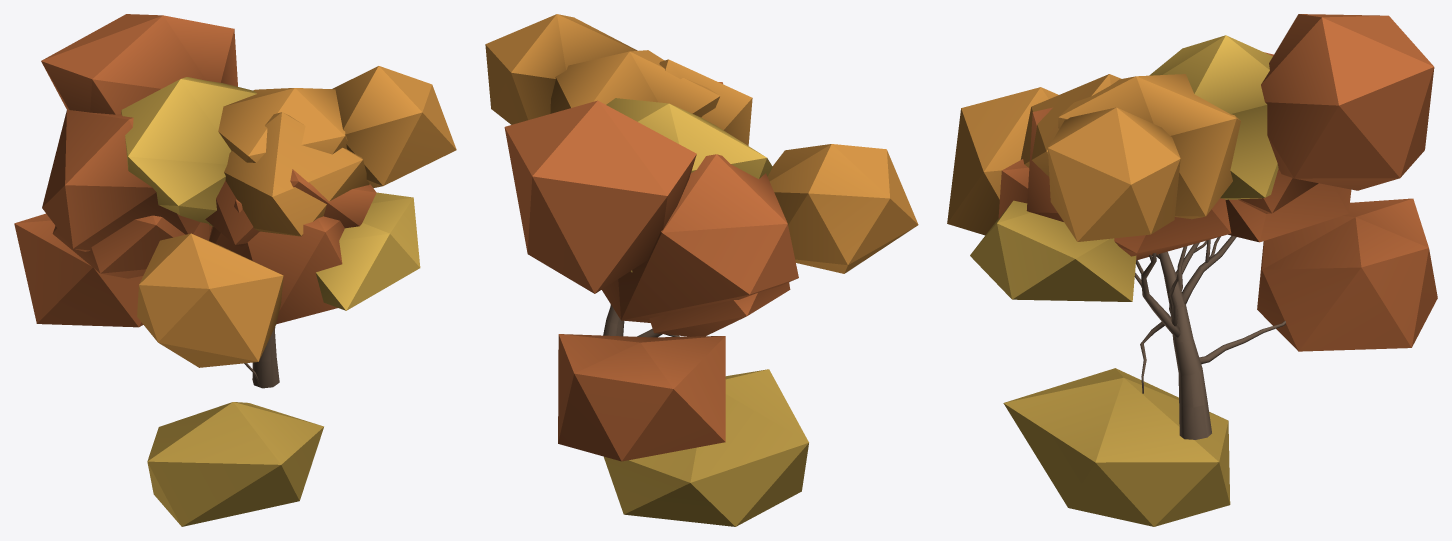
The model's file is obj_deco_matorral_2.glb.
3 renders of one model, left to right at view 1: azimuth 30°, elevation 25°; view 2: azimuth 150°, elevation 25°; view 3: azimuth 270°, elevation 25°, orthographic. The views are drawn at different scales.
Visible parts, largest first — view 1: propforge-libre-deco_matorral; view 2: propforge-libre-deco_matorral; view 3: propforge-libre-deco_matorral.
Part boxes in pixels (left/top/right/bottom): propforge-libre-deco_matorral: left=14, top=14, right=456, bottom=526; propforge-libre-deco_matorral: left=485, top=14, right=918, bottom=526; propforge-libre-deco_matorral: left=947, top=14, right=1437, bottom=526.
Bounding box in the file's own units: 0.5454 × 0.6605 × 0.5936.
